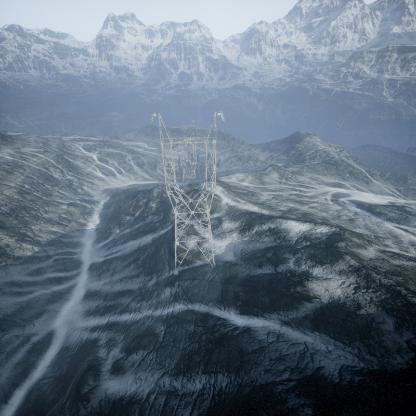tower: (150, 108, 227, 279)
